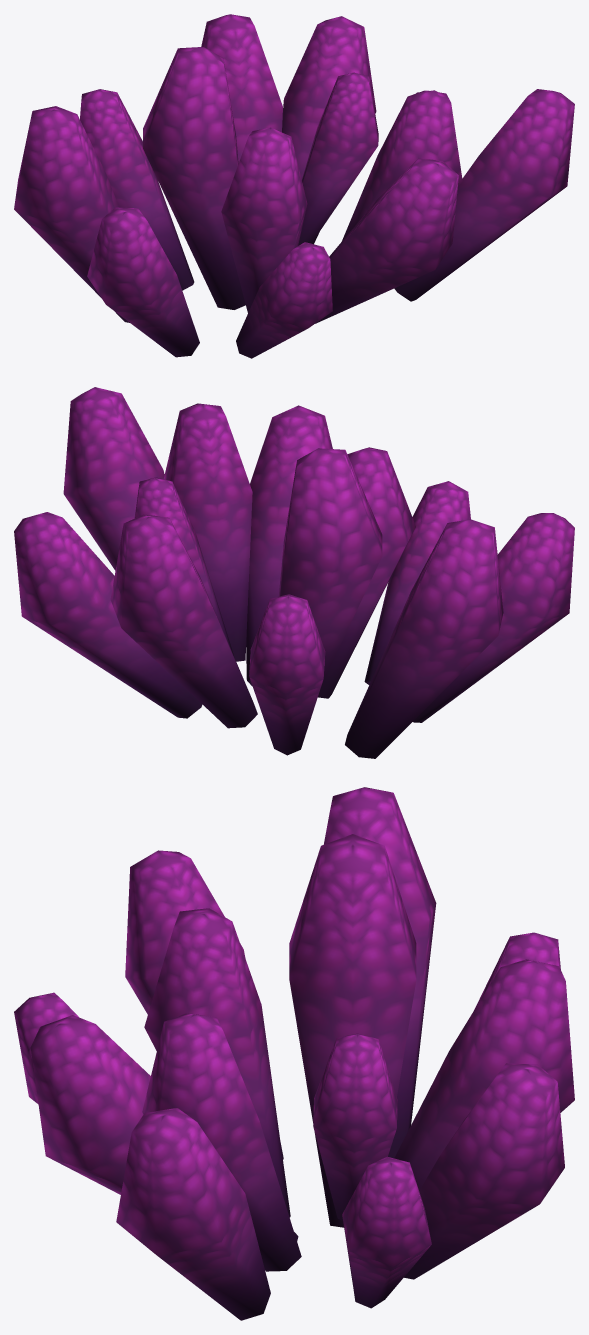
File: Coral_10c.FBX
3 renders of one model, top to bottom at view 1: azimuth 30°, elevation 25°; view 2: azimuth 150°, elevation 25°; view 3: azimuth 270°, elevation 25°, orthographic. The views are drawn at different scales.
Visible parts, largest first — view 1: Coral_10c; view 2: Coral_10c; view 3: Coral_10c.
Boxes of the visible parts, bbox=[...] form: Coral_10c: bbox=[14, 14, 574, 358]; Coral_10c: bbox=[14, 387, 574, 758]; Coral_10c: bbox=[14, 787, 574, 1320].
Size of the model in its own units: 17.04 by 9.27 by 12.73.
